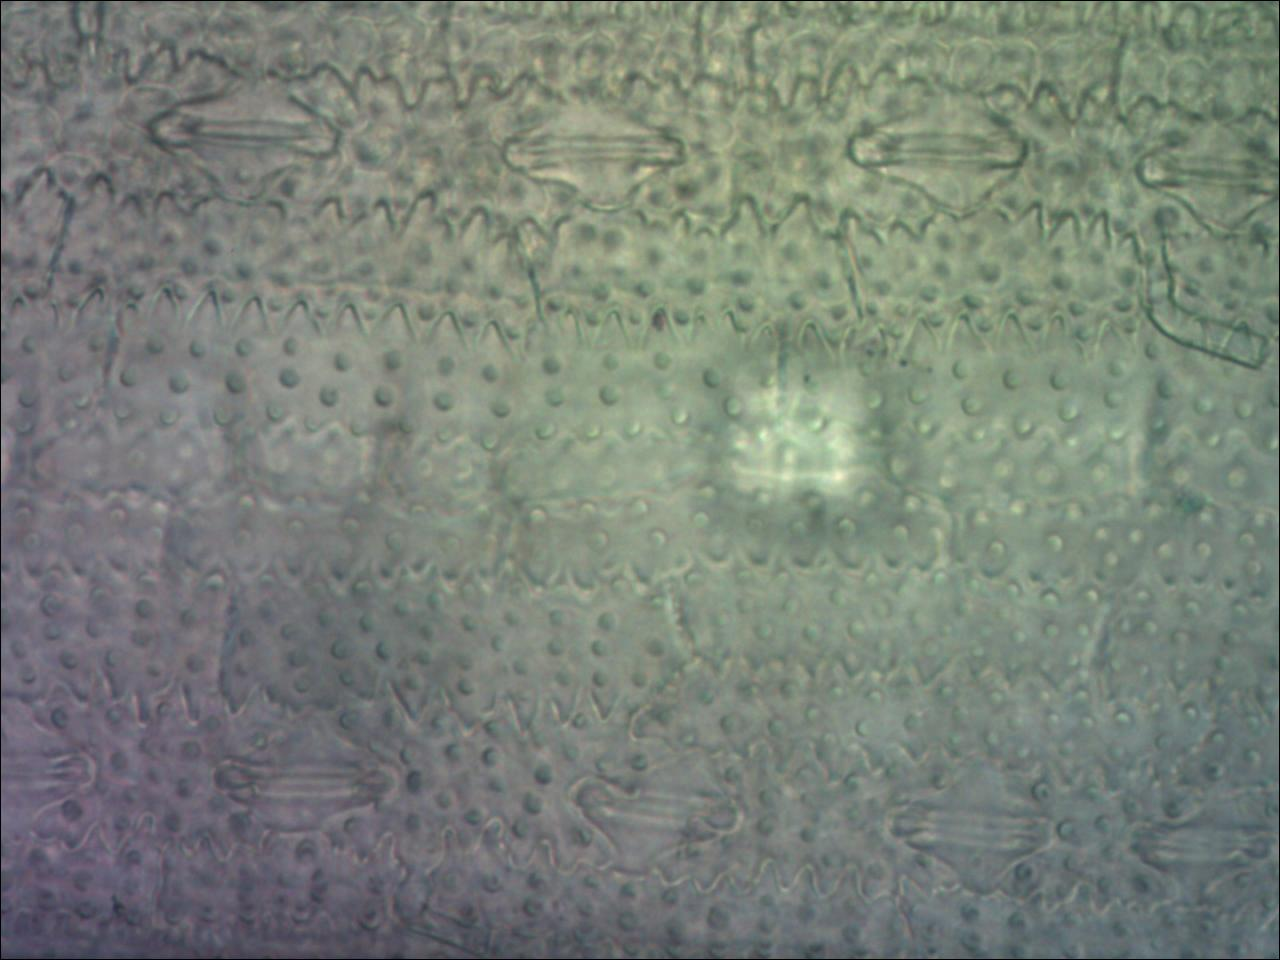stoma: (141, 70, 340, 197), (559, 731, 742, 868), (500, 84, 687, 211), (849, 94, 1035, 219), (892, 760, 1058, 896), (217, 710, 396, 835), (1137, 111, 1280, 236), (1130, 795, 1277, 909), (1, 700, 96, 838)
